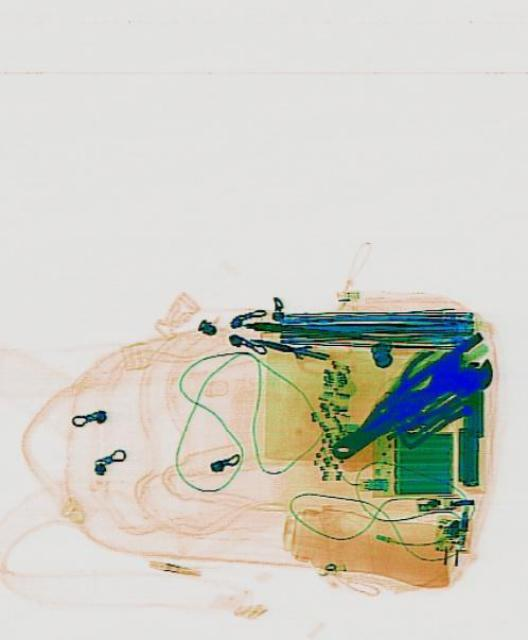Wrench: (317, 331, 496, 477)
